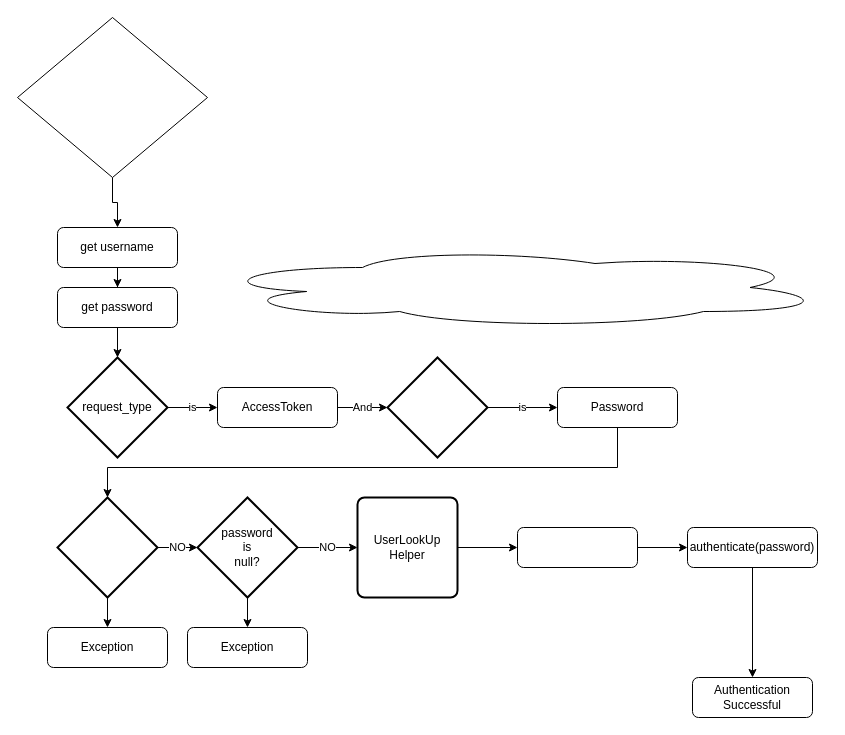
Image size: 845x735. Some labels were removed from this diagram. Each missing label, with the box of its shape:
getuser(username): (516, 526, 638, 568)
grant_type: (386, 356, 488, 458)
ropc_registry_validation: (16, 16, 208, 178)
stsuu.getContextAttributes().getAttributeValuesByNameAndType: (206, 246, 828, 328)
userid is null?: (56, 496, 158, 598)
